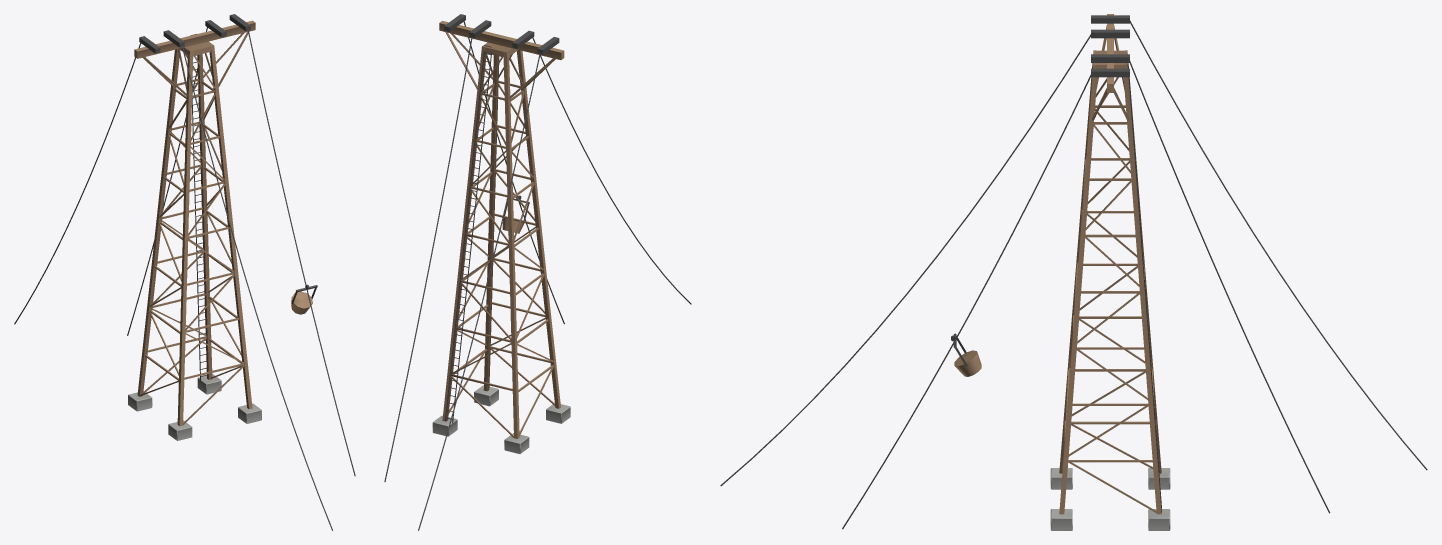
File: ropeway_pylon.glb
The picture shows the model from 3 angles, left to right: view 1: azimuth 30°, elevation 25°; view 2: azimuth 150°, elevation 25°; view 3: azimuth 270°, elevation 25°; orthographic projection. The views are drawn at different scales.
Parts seen in each view (by area): view 1: static; view 2: static; view 3: static.
Boxes of the visible parts, x1,y1,x2,y2 form: static: (14,14,355,530); static: (384,14,691,530); static: (720,14,1427,530).
Bounding box in the file's own units: 6.8 × 20.96 × 29.04.
